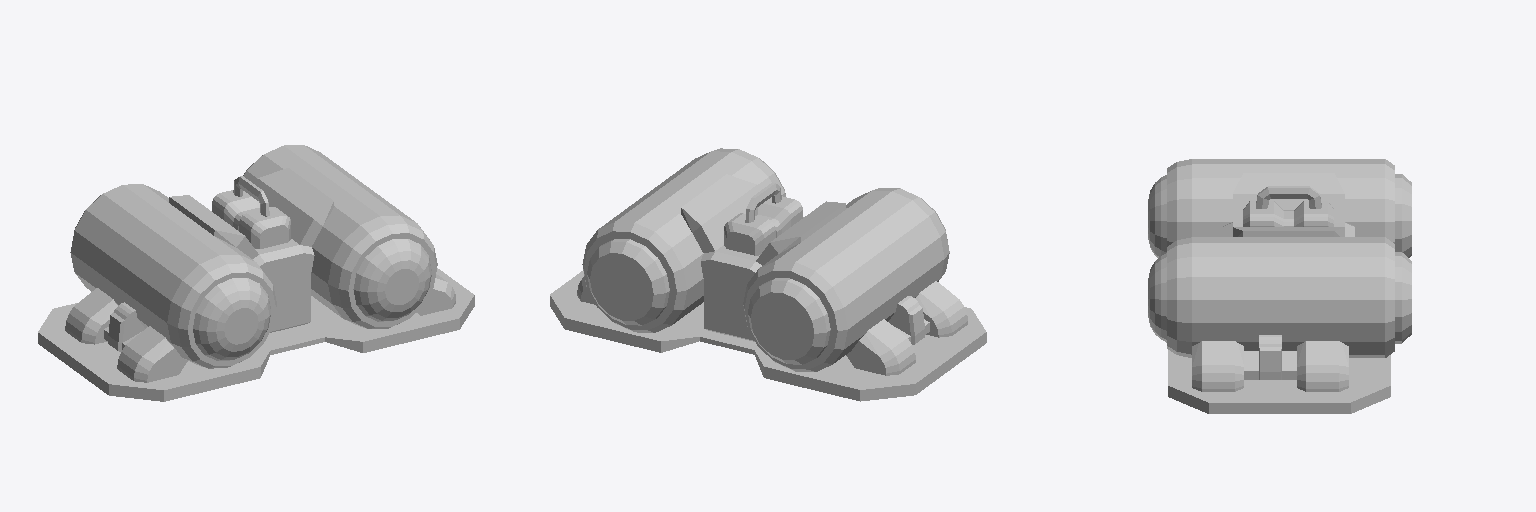
Rendered from Container01.obj.
3 views of the same model, side by side, from view 1: azimuth 30°, elevation 25°; view 2: azimuth 150°, elevation 25°; view 3: azimuth 270°, elevation 25° (orthographic).
Parts seen in each view (by area): view 1: Doodad02.38_low_Mesh.021; view 2: Doodad02.38_low_Mesh.021; view 3: Doodad02.38_low_Mesh.021.
Boxes of the visible parts, x1=… form: Doodad02.38_low_Mesh.021: x1=38, y1=145, x2=474, y2=401; Doodad02.38_low_Mesh.021: x1=550, y1=148, x2=986, y2=401; Doodad02.38_low_Mesh.021: x1=1148, y1=159, x2=1411, y2=413.
Size of the model in its own units: 2.59 by 0.9337 by 1.62.